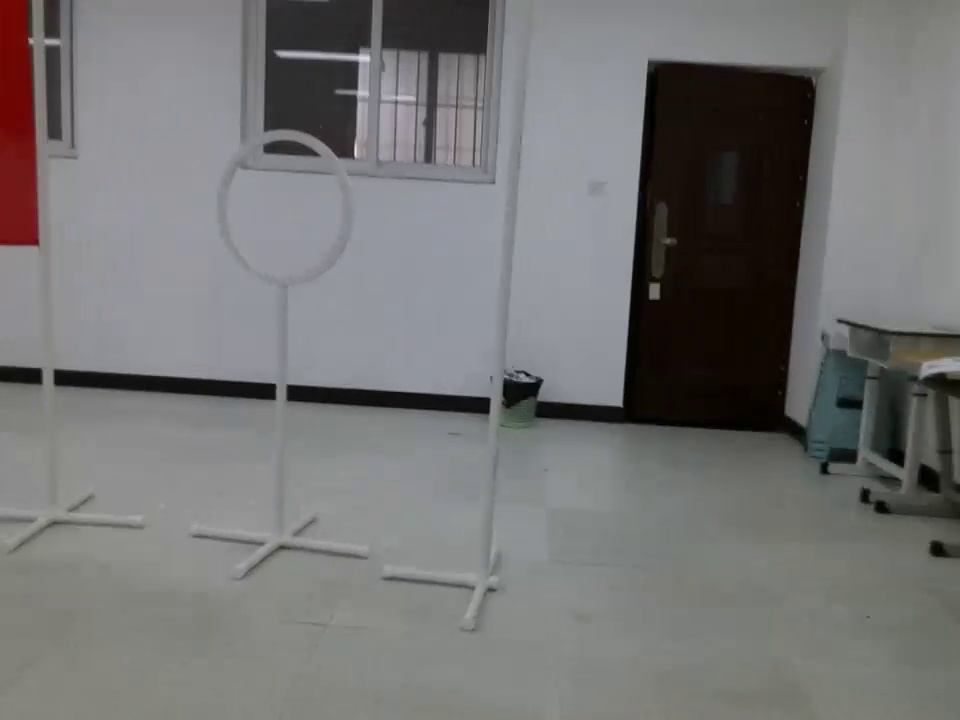gan: (475, 3, 533, 581)
qi: (1, 1, 55, 268)
quan: (217, 127, 355, 288)
